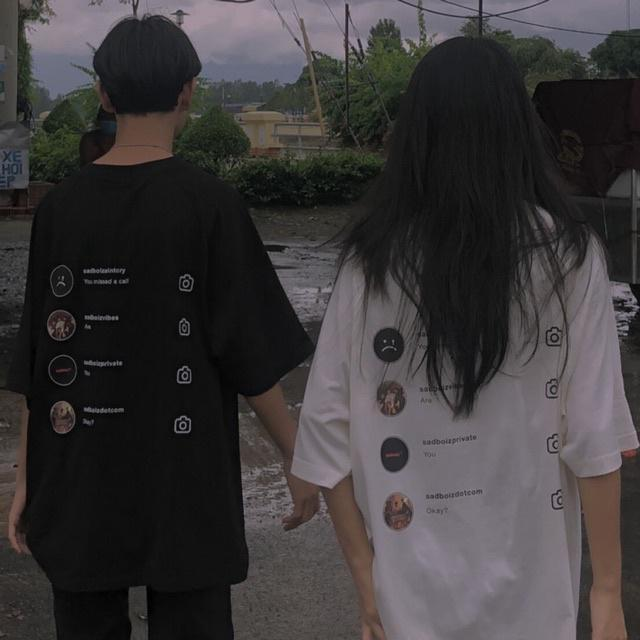Shirt: (298, 189, 639, 639), (8, 159, 312, 592)
